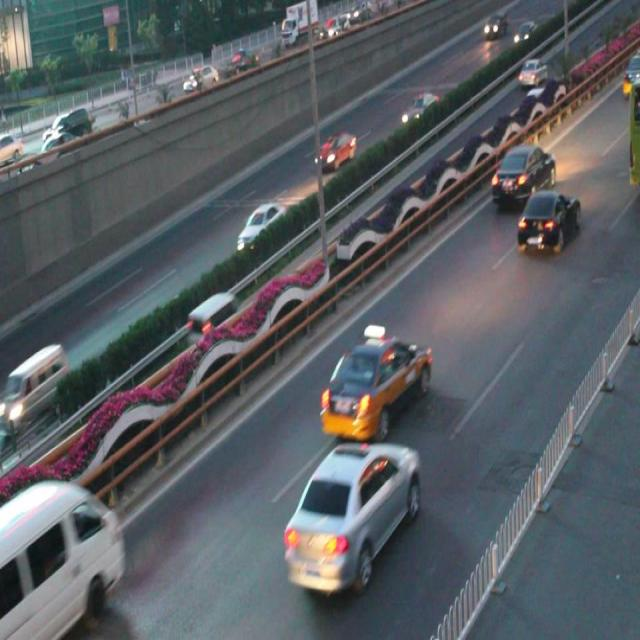car: (284, 437, 418, 593), (320, 325, 431, 437), (515, 192, 580, 255), (489, 142, 555, 204), (235, 202, 286, 253), (312, 130, 356, 170), (399, 90, 439, 128)
truck: (0, 475, 124, 640), (10, 342, 67, 427), (186, 290, 240, 348)
